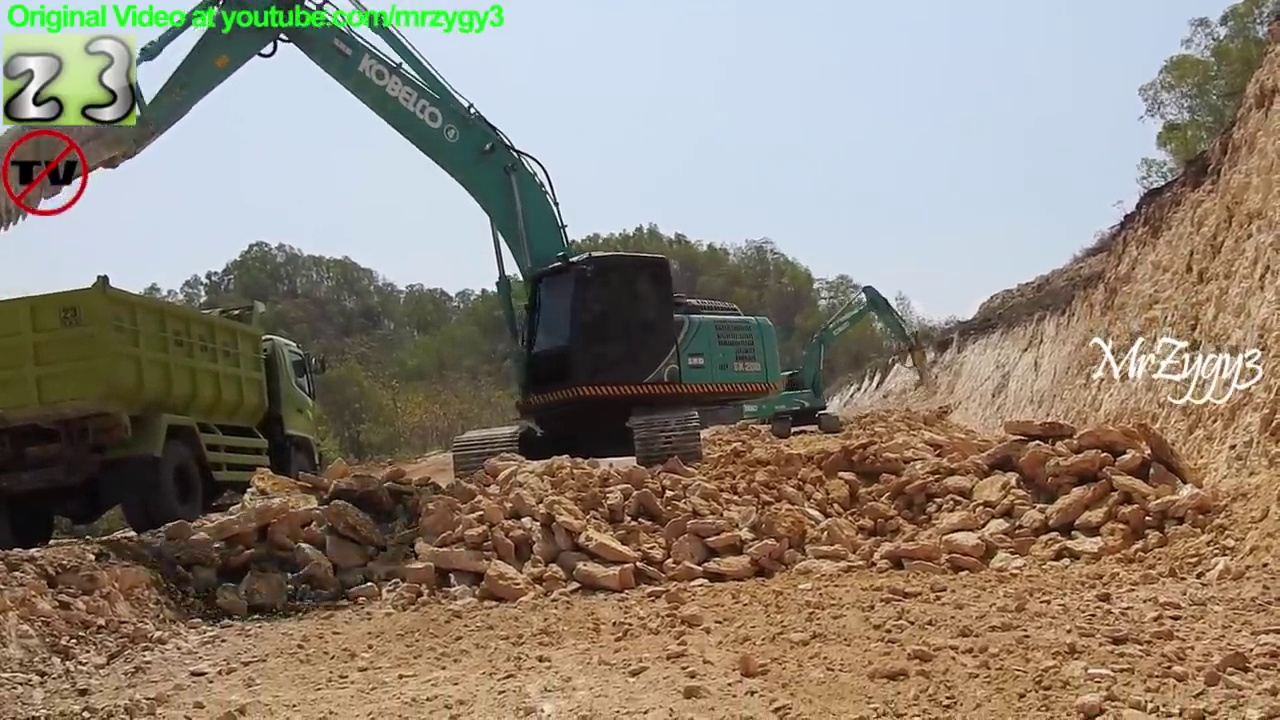excavator: (1, 1, 789, 492)
excavator breaker: (736, 281, 938, 440)
truck: (1, 270, 336, 559)
